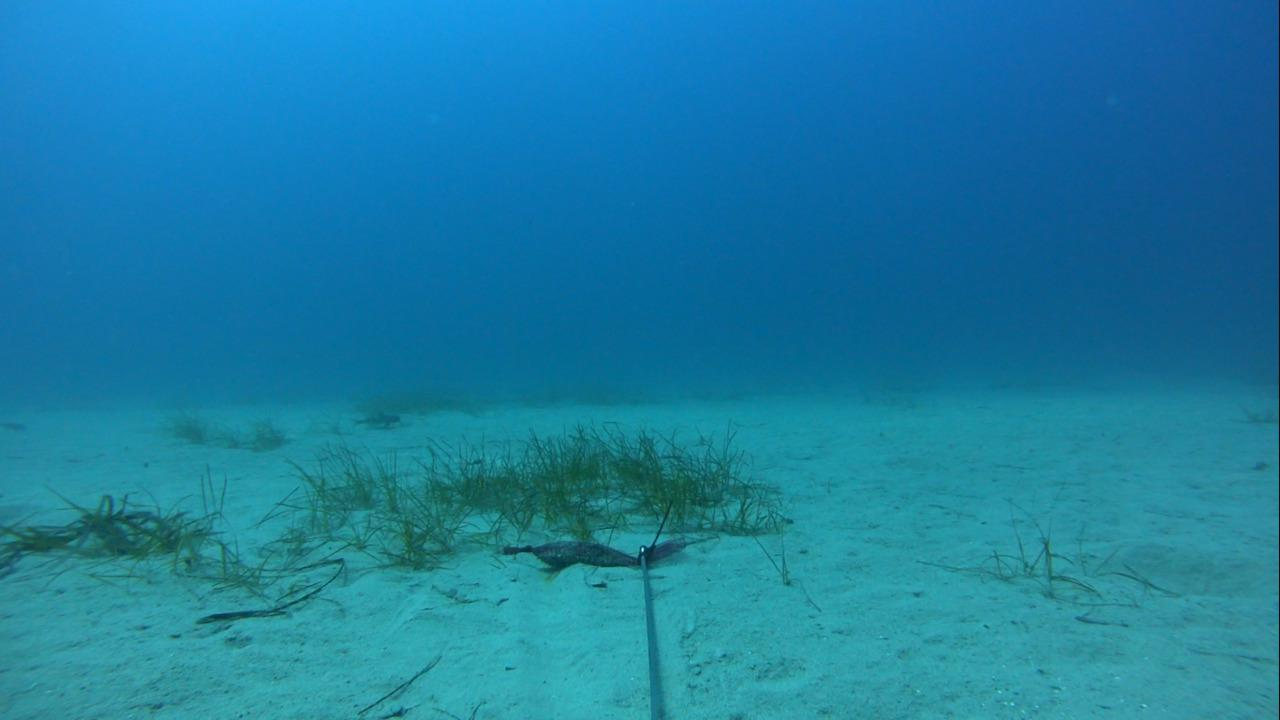dactylopterus: (335, 406, 406, 434)
